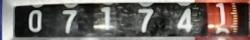digits: (97, 6, 119, 30), (210, 3, 229, 27), (137, 7, 154, 32), (176, 8, 192, 32), (62, 9, 77, 33), (28, 10, 42, 32)
